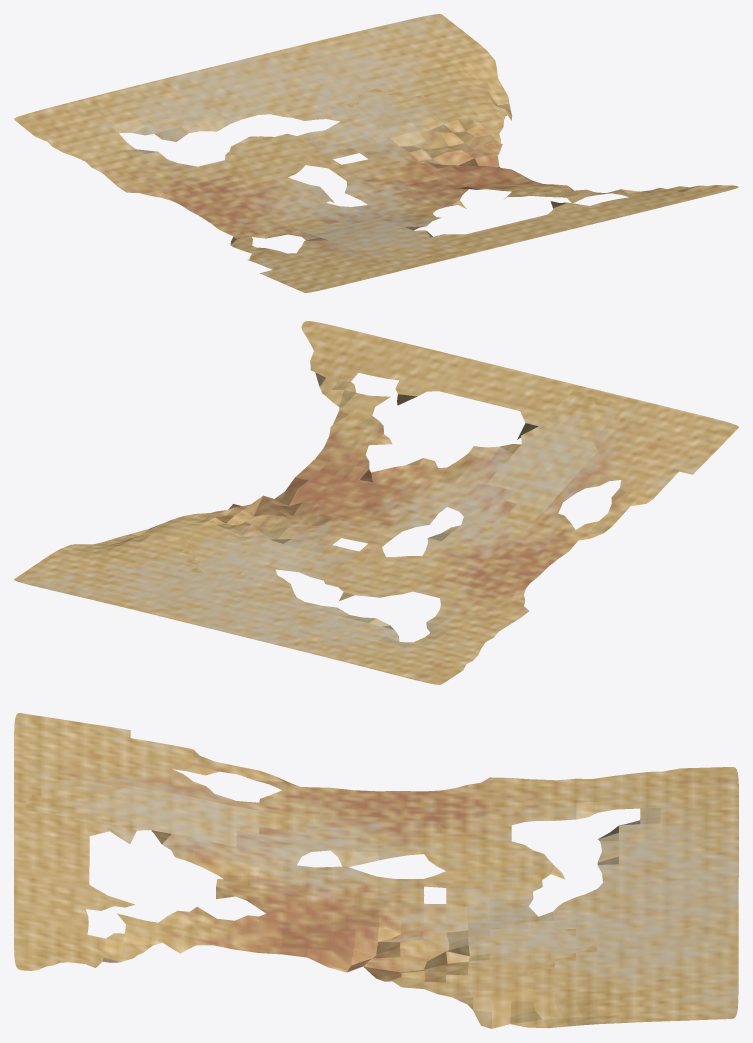
The model's file is nappe.obj.
3 renders of one model, top to bottom at view 1: azimuth 30°, elevation 25°; view 2: azimuth 150°, elevation 25°; view 3: azimuth 270°, elevation 25°, orthographic. The views are drawn at different scales.
Parts seen in each view (by area): view 1: Material-TENDA; view 2: Material-TENDA; view 3: Material-TENDA.
Part boxes in pixels (x1,y1,x2,y2): Material-TENDA: [14, 14, 738, 292]; Material-TENDA: [14, 321, 738, 684]; Material-TENDA: [14, 713, 738, 1028].
Size of the model in its own units: 1.99 by 0.2846 by 2.37.
1 material, 1 textured.
